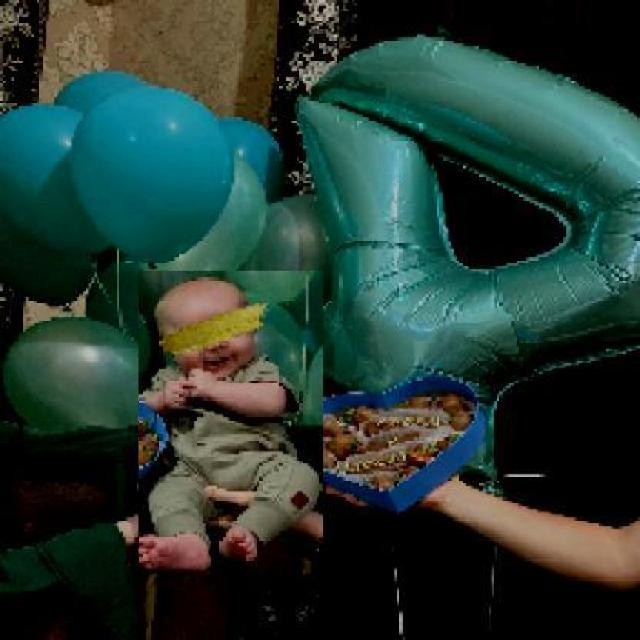child: (137, 271, 323, 575)
